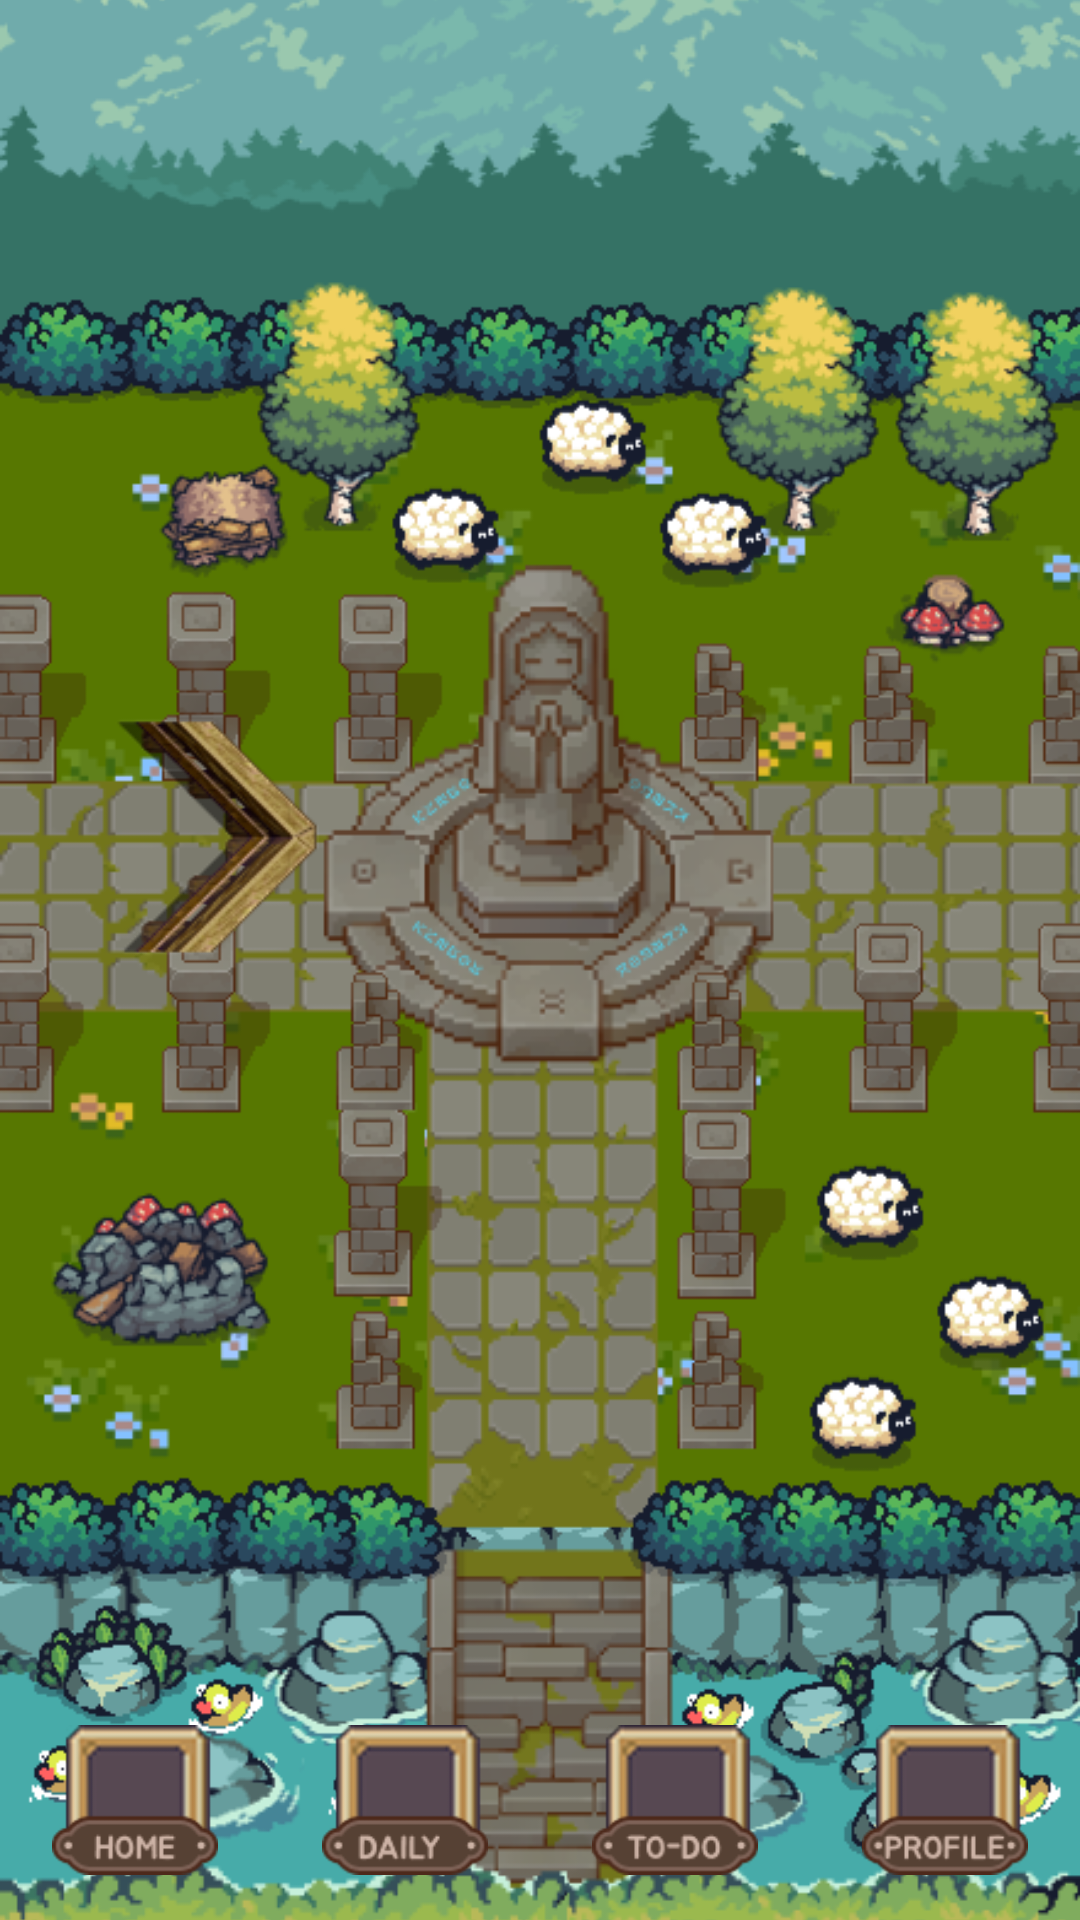

Point at icon controls on the screen. Image size 1080*1920, points as [x,y].
arrowright: [211,837]
